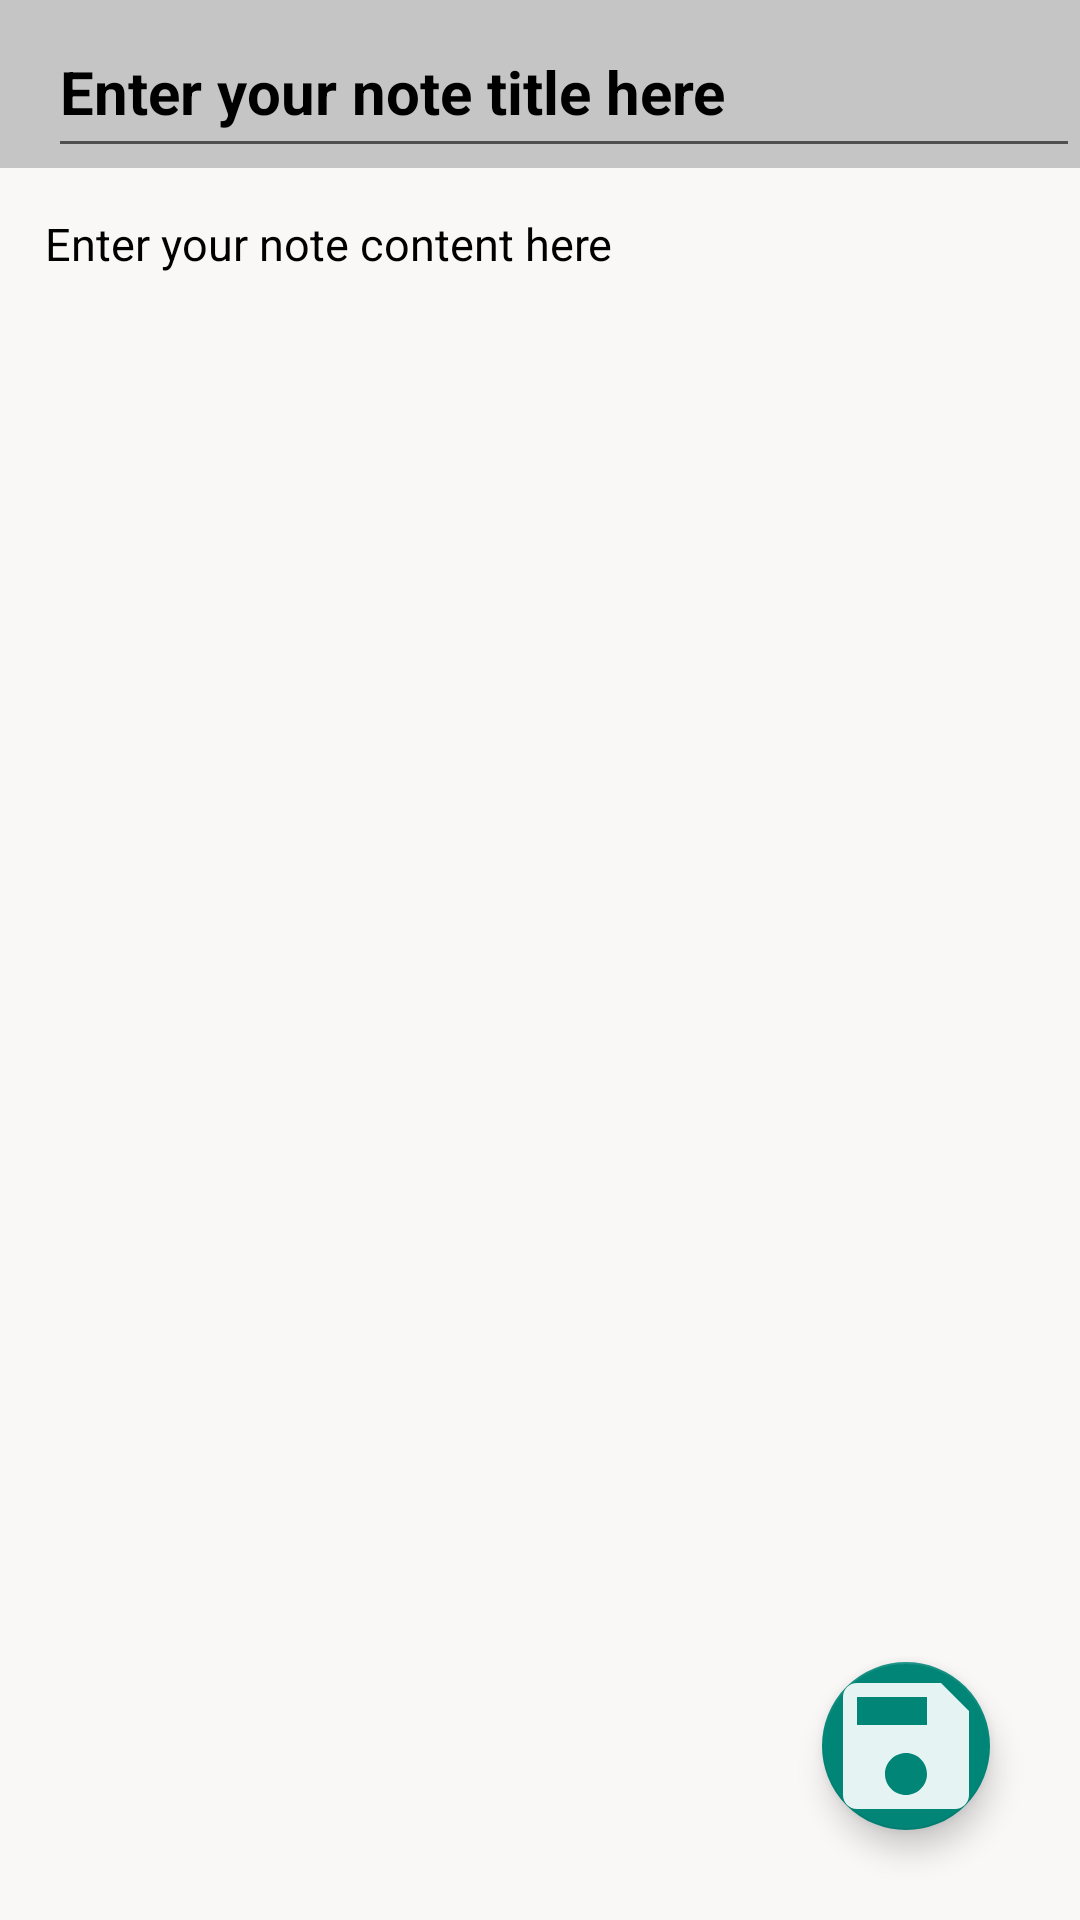

Point at icon controls on the screen. Image size 1080x1920, points as [x,y].
save: [906,1746]
